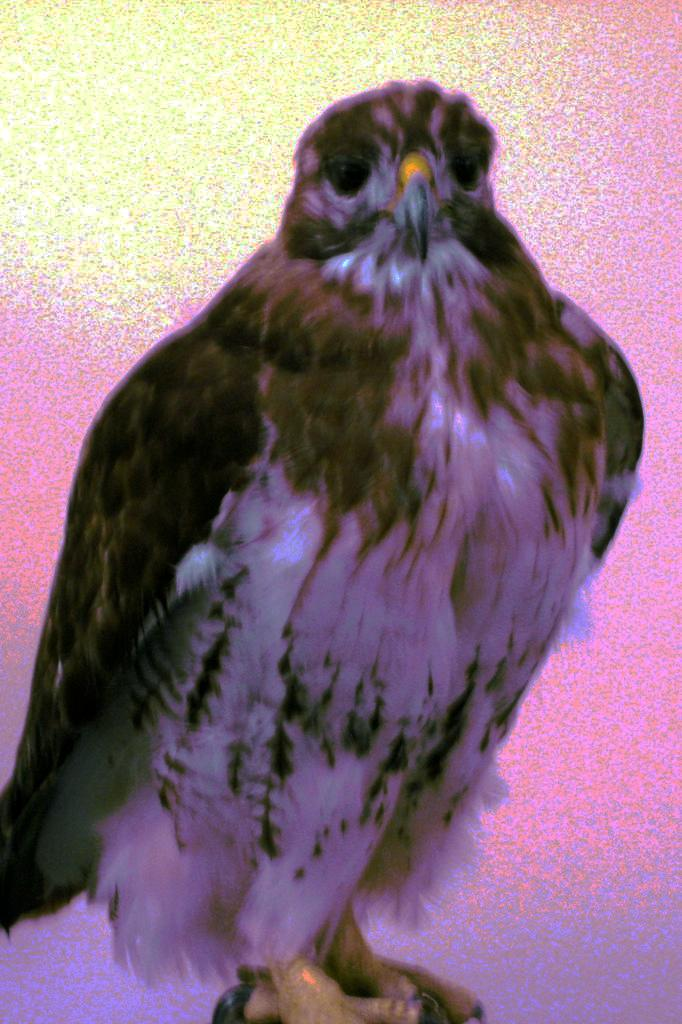Owl: (0, 76, 653, 1024)
